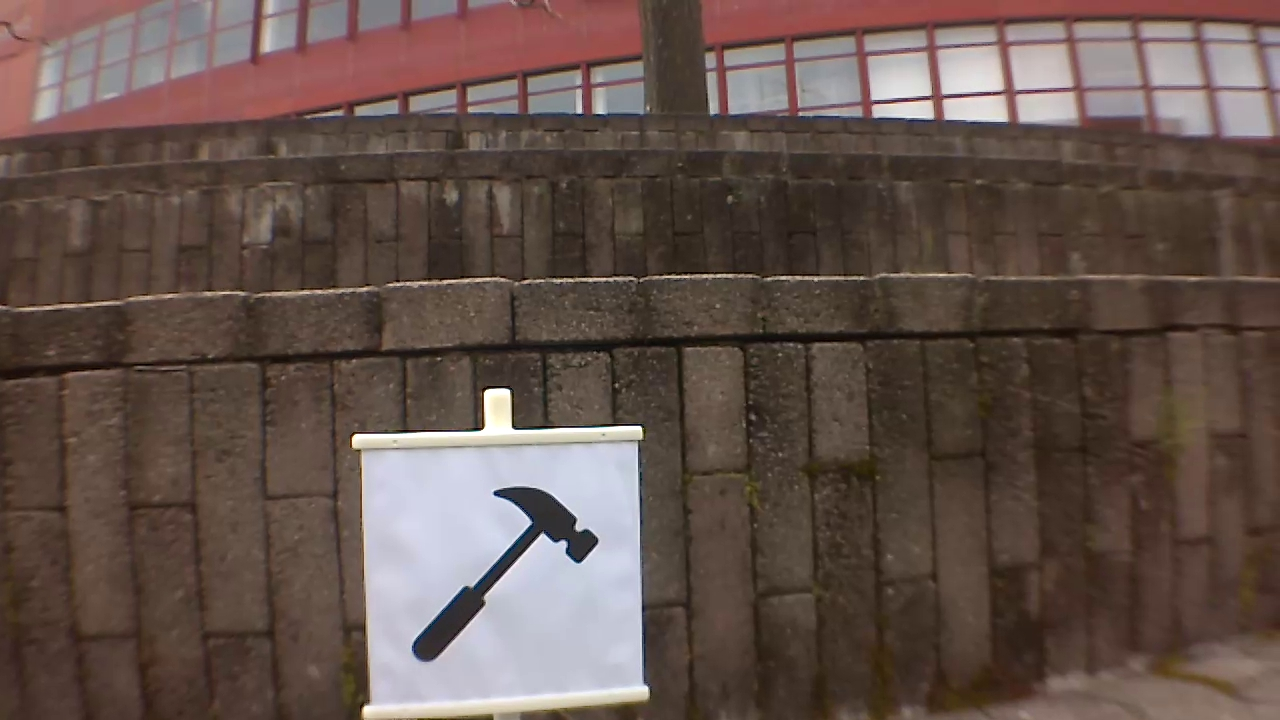hammer: (409, 474, 601, 662)
